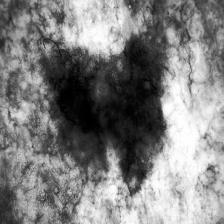Benign Marking or Mole: (40, 39, 167, 193)
